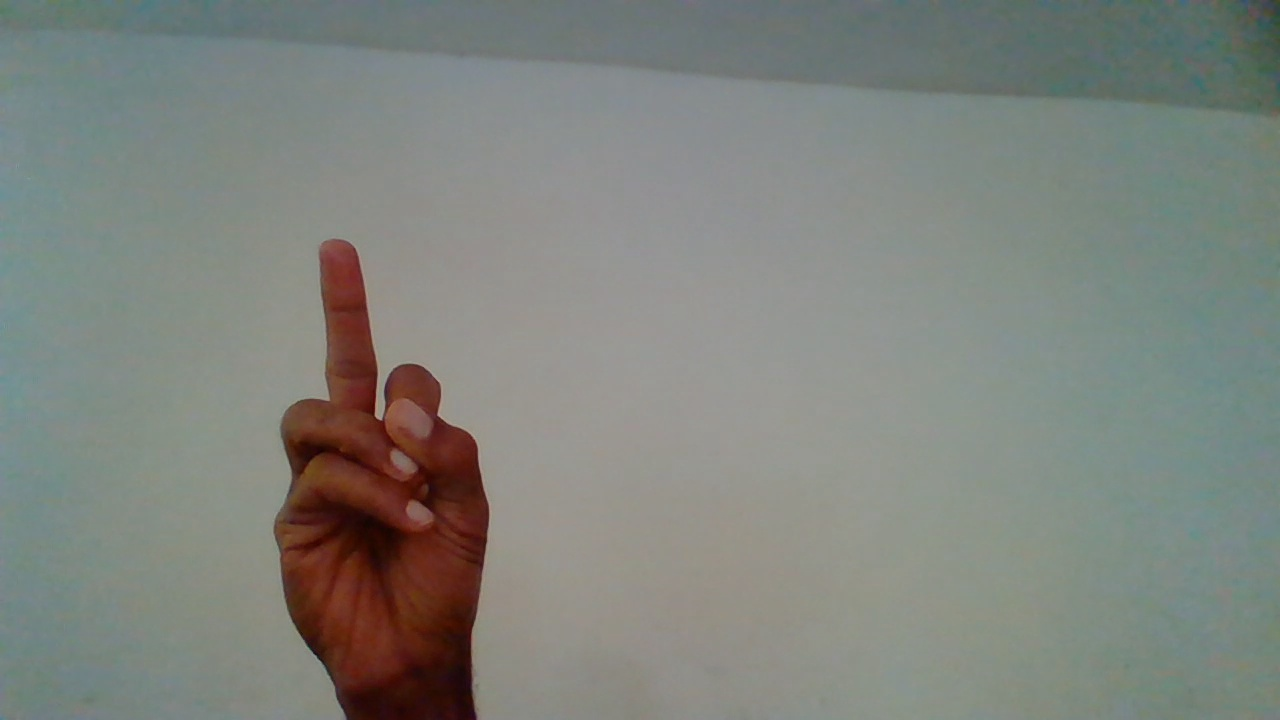he: (265, 230, 500, 705)
